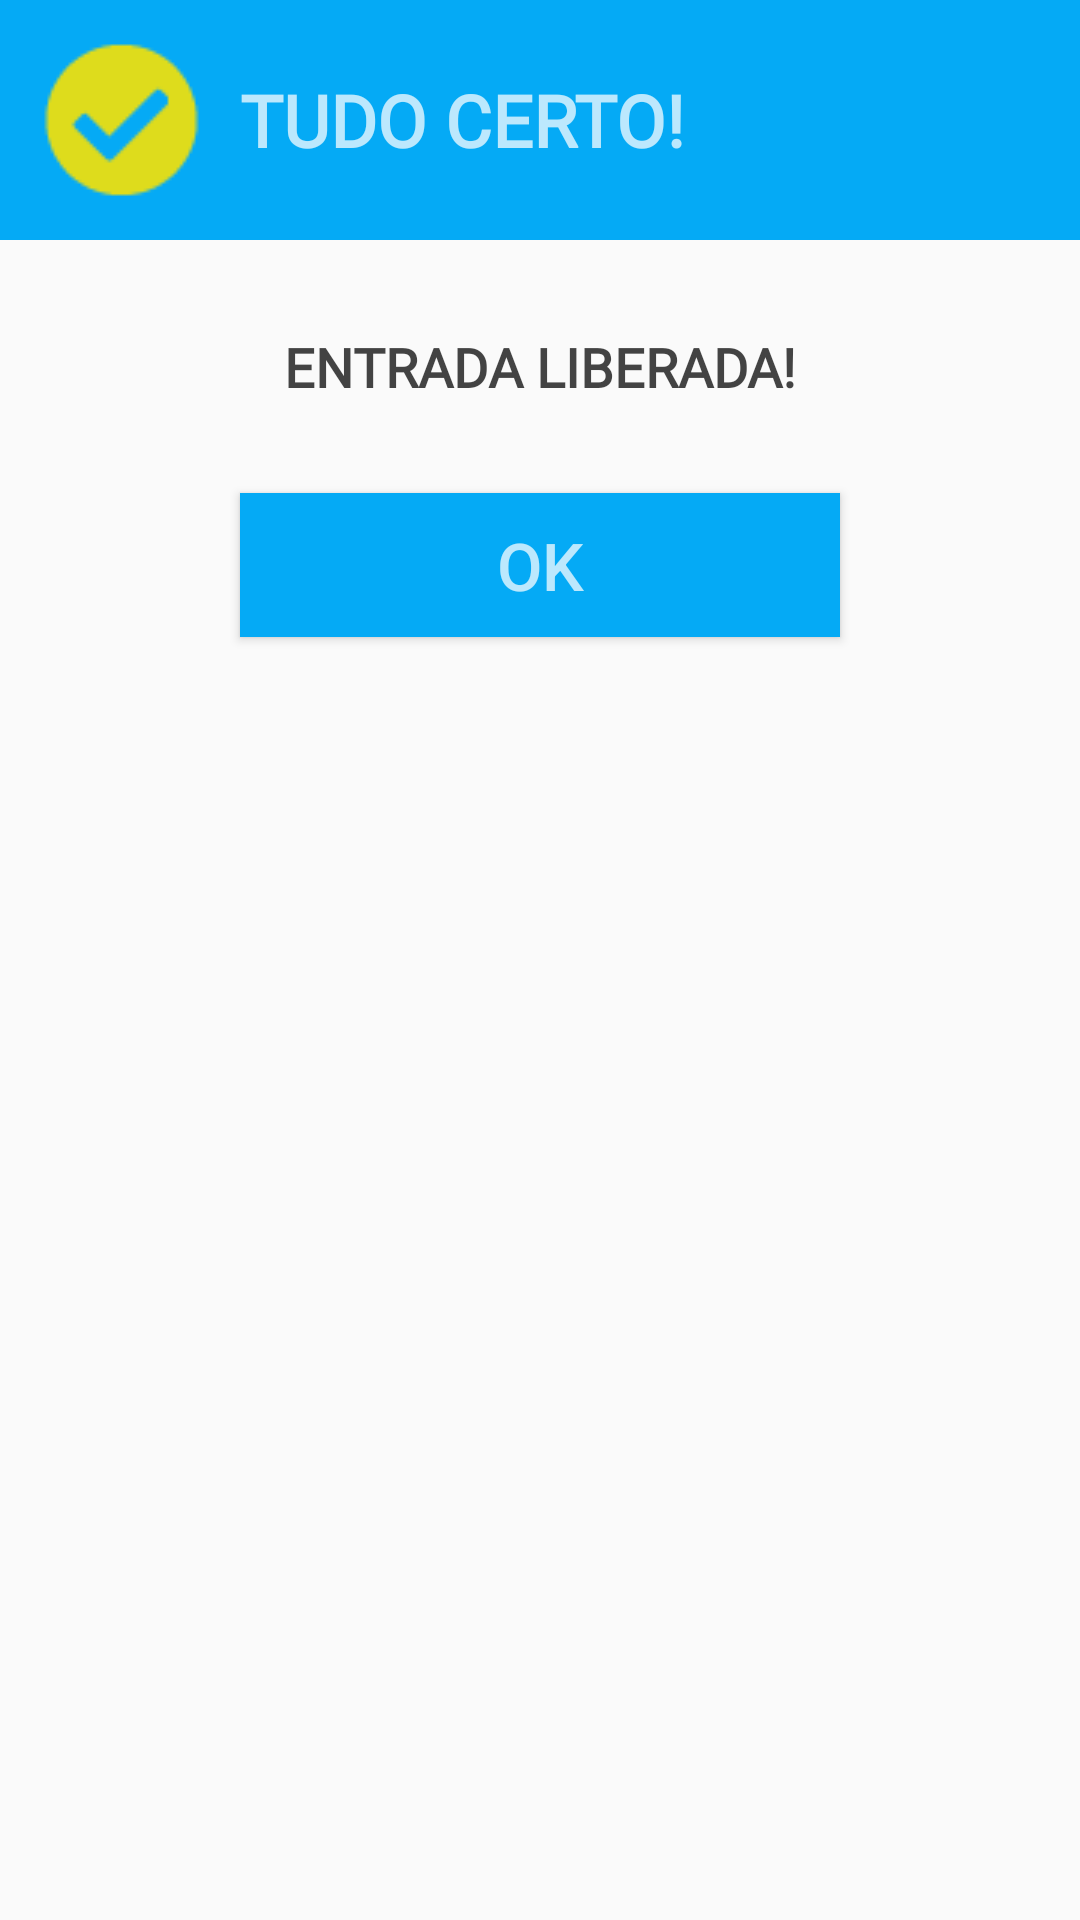

Screen size 1080px x 1920px. Icon name, then its box in pixels as (left=x1, top=y1, right=x2, bottom=y2):
confir: (left=44, top=44, right=199, bottom=196)
